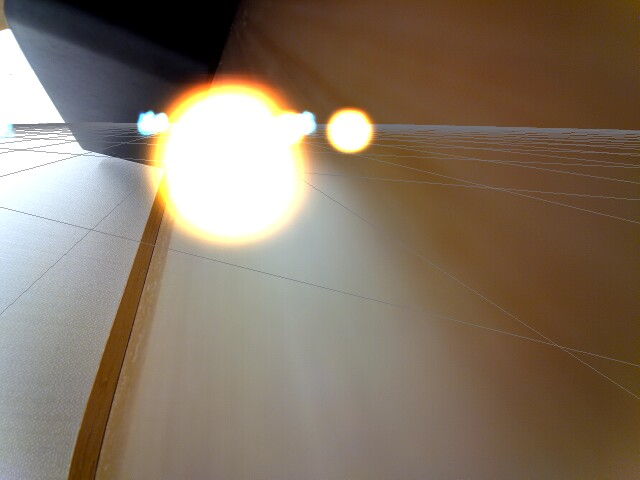firebig: (158, 78, 283, 253)
